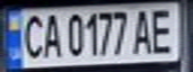0: (63, 10, 84, 57)
1: (81, 9, 100, 56)
7: (96, 8, 115, 56), (112, 7, 130, 56)
A: (130, 7, 157, 55), (39, 11, 63, 60)
C: (18, 11, 48, 60)
E: (148, 4, 181, 55)
